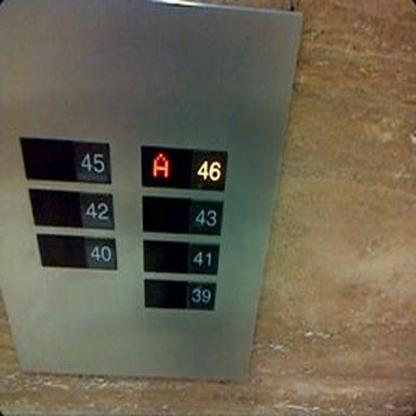39: (183, 276, 217, 313)
40: (82, 234, 118, 273)
41: (184, 238, 220, 278)
42: (76, 186, 116, 232)
43: (186, 196, 225, 237)
45: (71, 138, 112, 186)
46: (191, 146, 228, 192)
led: (138, 143, 197, 190)
